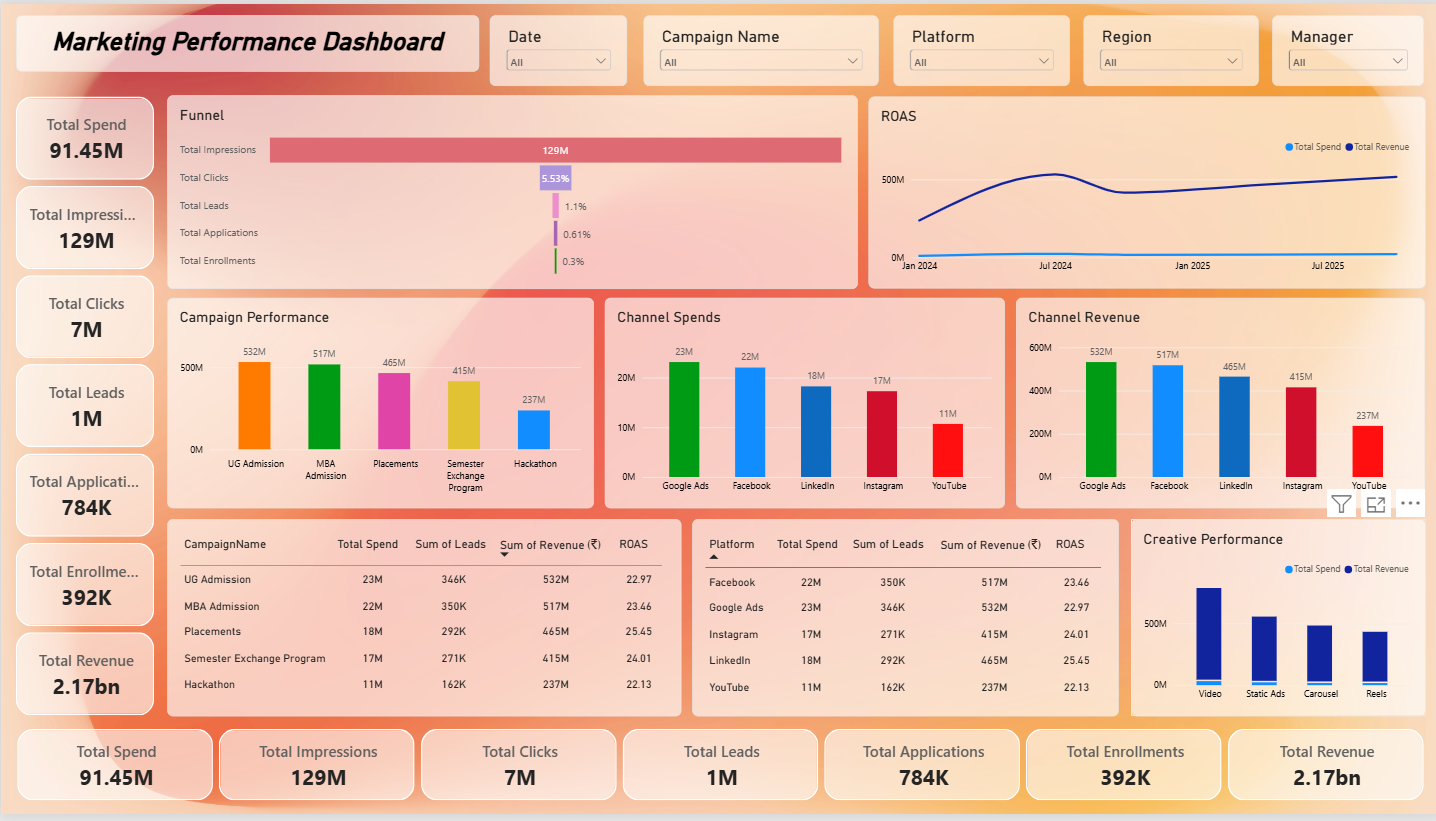

The page's visual inventory and layout, read from the dashboard file:
{"tool":"powerbi","page":{"name":"Page 1","canvas":[1920,1080],"ordinal":0},"visuals":[{"type":"lineChart","title":"ROAS","fields":{"Category":["CampaignMeta.EndDate.Variation.Date Hierarchy.Year","CampaignMeta.EndDate.Variation.Date Hierarchy.Quarter"],"Y":["CampaignMeta.Total Spend","CampaignMeta.Total Revenue"]},"box":[1156.4,123.8,743,256.4],"z":0},{"type":"columnChart","title":"Channel Spends","fields":{"Category":["ChannelRates.Channel"],"Y":["CampaignMeta.Total Spend"]},"box":[805.8,392.4,533.7,280.8],"z":1000},{"type":"slicer","fields":{"Values":["CampaignPerformance.Date.Variation.Date Hierarchy.Year","CampaignPerformance.Date.Variation.Date Hierarchy.Quarter"]},"box":[652.2,15.7,183.1,94.2],"z":2000},{"type":"cardVisual","fields":{"Data":["CampaignMeta.Total Spend","CampaignMeta.Total Impressions","CampaignMeta.Total Clicks","CampaignMeta.Total Leads","CampaignMeta.Total Applications","CampaignMeta.Total Enrollments","CampaignMeta.Total Revenue"]},"box":[19.2,123.8,184.9,826.7],"z":3000},{"type":"slicer","fields":{"Values":["CampaignPerformance.CampaignName"]},"box":[856.2,15.7,314,94.2],"z":4000},{"type":"slicer","fields":{"Values":["CampaignPerformance.Platform"]},"box":[1189.4,15.7,235.5,94.2],"z":5000},{"type":"slicer","fields":{"Values":["CampaignPerformance.Region"]},"box":[1444,15.7,233.7,94.2],"z":6000},{"type":"slicer","fields":{"Values":["CampaignMeta.Manager"]},"box":[1695.2,15.7,202.3,94.2],"z":7000},{"type":"columnChart","title":"Campaign Performance","fields":{"Category":["CampaignPerformance.CampaignName"],"Y":["Sum(CampaignPerformance.Revenue (₹))"]},"box":[221.5,392.4,568.6,280.8],"z":8000},{"type":"funnel","title":"Funnel","fields":{"Y":["CampaignMeta.Total Impressions","CampaignMeta.Total Clicks","CampaignMeta.Total Leads","CampaignMeta.Total Applications","CampaignMeta.Total Enrollments"]},"box":[221.5,122.1,920.9,258.1],"z":9000},{"type":"tableEx","fields":{"Values":["CampaignPerformance.Platform","CampaignMeta.Total Spend","Sum(CampaignPerformance.Leads)","Sum(CampaignPerformance.Revenue (₹))","CampaignMeta.ROAS"]},"box":[920.9,687.2,568.6,263.4],"z":10000},{"type":"columnChart","title":"Channel Revenue","fields":{"Category":["ChannelRates.Channel"],"Y":["CampaignMeta.Total Revenue"]},"box":[1353.5,392.4,545.9,280.8],"z":11000},{"type":"tableEx","fields":{"Values":["CampaignPerformance.CampaignName","CampaignMeta.Total Spend","Sum(CampaignPerformance.Leads)","Sum(CampaignPerformance.Revenue (₹))","CampaignMeta.ROAS"]},"box":[221.5,687.2,685.5,263.4],"z":12000},{"type":"columnChart","title":"Creative Performance","fields":{"Category":["CampaignMeta.Creative Type"],"Y":["CampaignMeta.Total Spend","CampaignMeta.Total Revenue"]},"box":[1507,687.2,392.4,263.4],"z":13000},{"type":"cardVisual","fields":{"Data":["CampaignMeta.Total Spend","CampaignMeta.Total Impressions","CampaignMeta.Total Clicks","CampaignMeta.Total Leads","CampaignMeta.Total Applications","CampaignMeta.Total Enrollments","CampaignMeta.Total Revenue"]},"box":[20.9,966.3,1878.5,95.9],"z":14000},{"type":"textbox","box":[19.2,15.7,617.4,75],"z":15000}]}

Visuals, with their boxes in screenshot pixels (x1, y1, x2, y2), scaled from the page's 1920x1080 canvas onto the 1436x821 screenshot:
"ROAS" lineChart: box=[865, 94, 1421, 289]
"Channel Spends" columnChart: box=[603, 298, 1002, 512]
slicer - CampaignPerformance.Date.Variation.Date Hierarchy.Year x CampaignPerformance.Date.Variation.Date Hierarchy.Quarter: box=[488, 12, 625, 84]
cardVisual - CampaignMeta.Total Spend x CampaignMeta.Total Impressions: box=[14, 94, 153, 723]
slicer - CampaignPerformance.CampaignName: box=[640, 12, 875, 84]
slicer - CampaignPerformance.Platform: box=[890, 12, 1066, 84]
slicer - CampaignPerformance.Region: box=[1080, 12, 1255, 84]
slicer - CampaignMeta.Manager: box=[1268, 12, 1419, 84]
"Campaign Performance" columnChart: box=[166, 298, 591, 512]
"Funnel" funnel: box=[166, 93, 854, 289]
tableEx - CampaignPerformance.Platform x CampaignMeta.Total Spend: box=[689, 522, 1114, 723]
"Channel Revenue" columnChart: box=[1012, 298, 1421, 512]
tableEx - CampaignPerformance.CampaignName x CampaignMeta.Total Spend: box=[166, 522, 678, 723]
"Creative Performance" columnChart: box=[1127, 522, 1421, 723]
cardVisual - CampaignMeta.Total Spend x CampaignMeta.Total Impressions: box=[16, 735, 1421, 807]
textbox: box=[14, 12, 476, 69]
